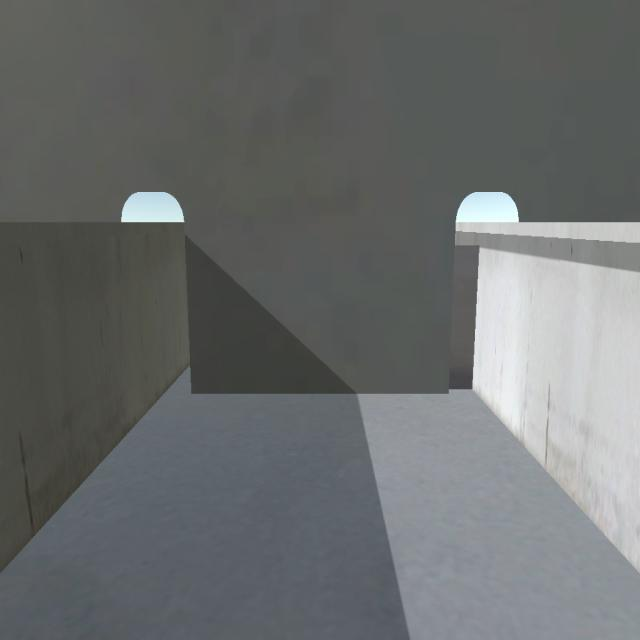fillet_yong_jeop_jang: (193, 388, 476, 398)
longi_yong_jeop_jang: (471, 245, 479, 396)
plate_behind: (449, 248, 475, 393)
